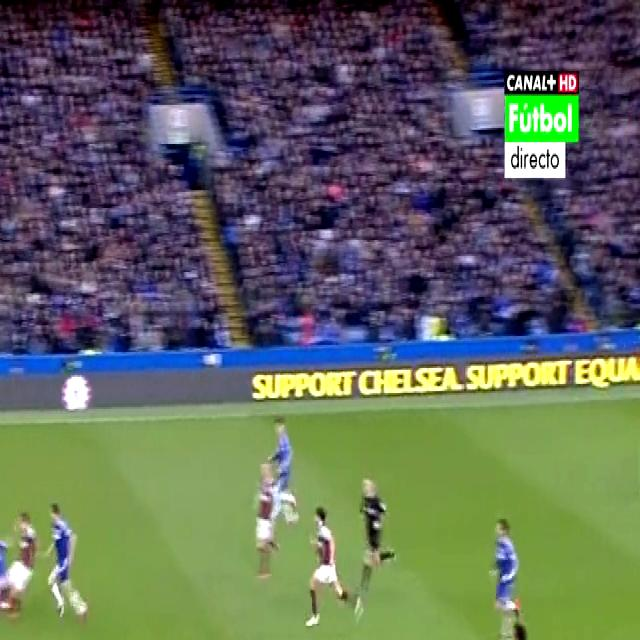referee: (355, 466, 395, 602)
soccer-player: (303, 501, 361, 640), (42, 487, 94, 634), (485, 499, 530, 640), (248, 462, 285, 592), (265, 403, 301, 532), (6, 497, 40, 617), (0, 510, 14, 628), (490, 622, 554, 640)
